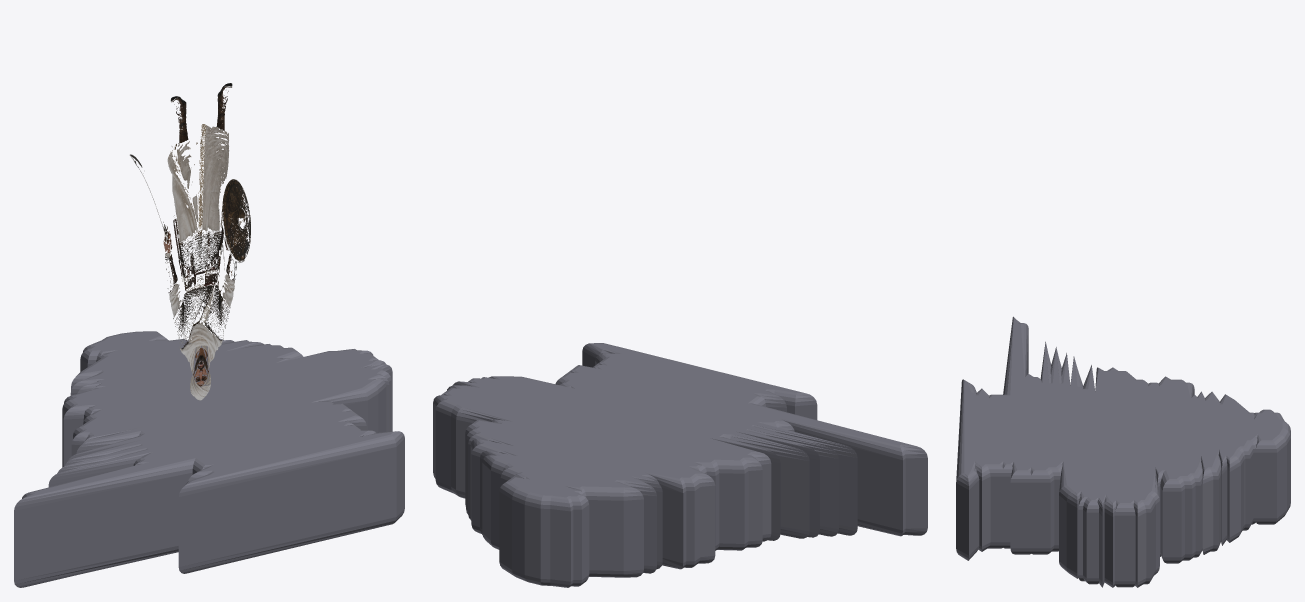
The model's file is arab_w.glb.
The picture shows the model from 3 angles, left to right: view 1: azimuth 30°, elevation 25°; view 2: azimuth 150°, elevation 25°; view 3: azimuth 270°, elevation 25°; orthographic projection. The views are drawn at different scales.
Parts seen in each view (by area): view 1: unit; view 2: unit; view 3: unit.
Boxes of the visible parts, <box> form: unit: <box>14,83,404,587</box>; unit: <box>433,343,927,587</box>; unit: <box>956,316,1290,587</box>.
Size of the model in its own units: 0.9251 by 1 by 0.6707.
Materials: 2 (1 with a texture image).
